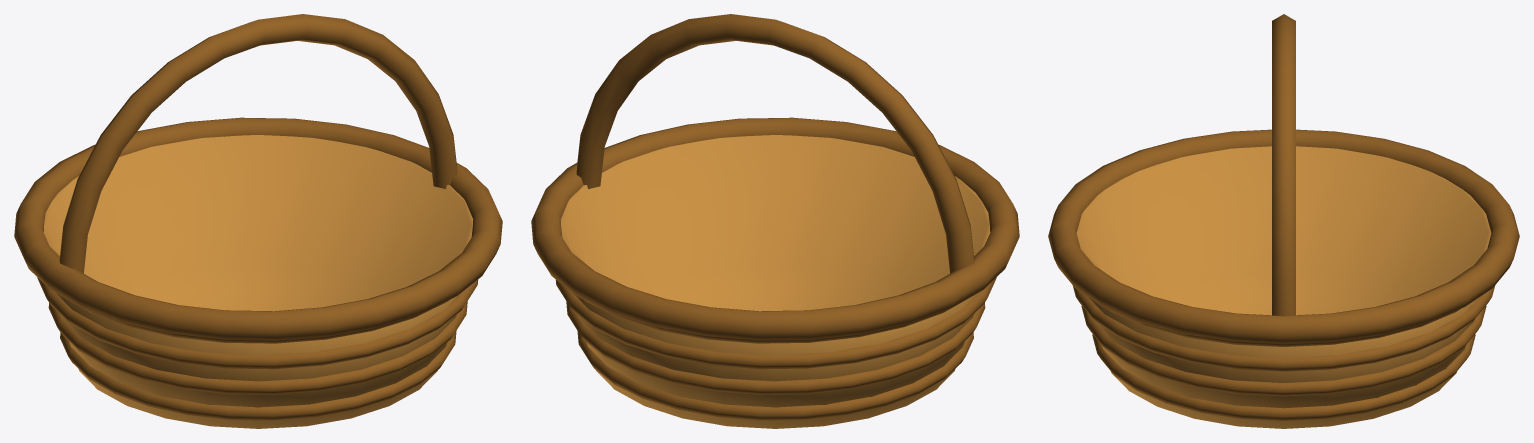
The model's file is basket.glb.
3 renders of one model, left to right at view 1: azimuth 30°, elevation 25°; view 2: azimuth 150°, elevation 25°; view 3: azimuth 270°, elevation 25°, orthographic. The views are drawn at different scales.
Parts seen in each view (by area): view 1: basket; view 2: basket; view 3: basket.
Part boxes in pixels (left/top/right/bottom): basket: left=14, top=14, right=502, bottom=428; basket: left=531, top=14, right=1019, bottom=428; basket: left=1048, top=14, right=1519, bottom=428.
Size of the model in its own units: 0.95 by 0.708 by 0.95.
